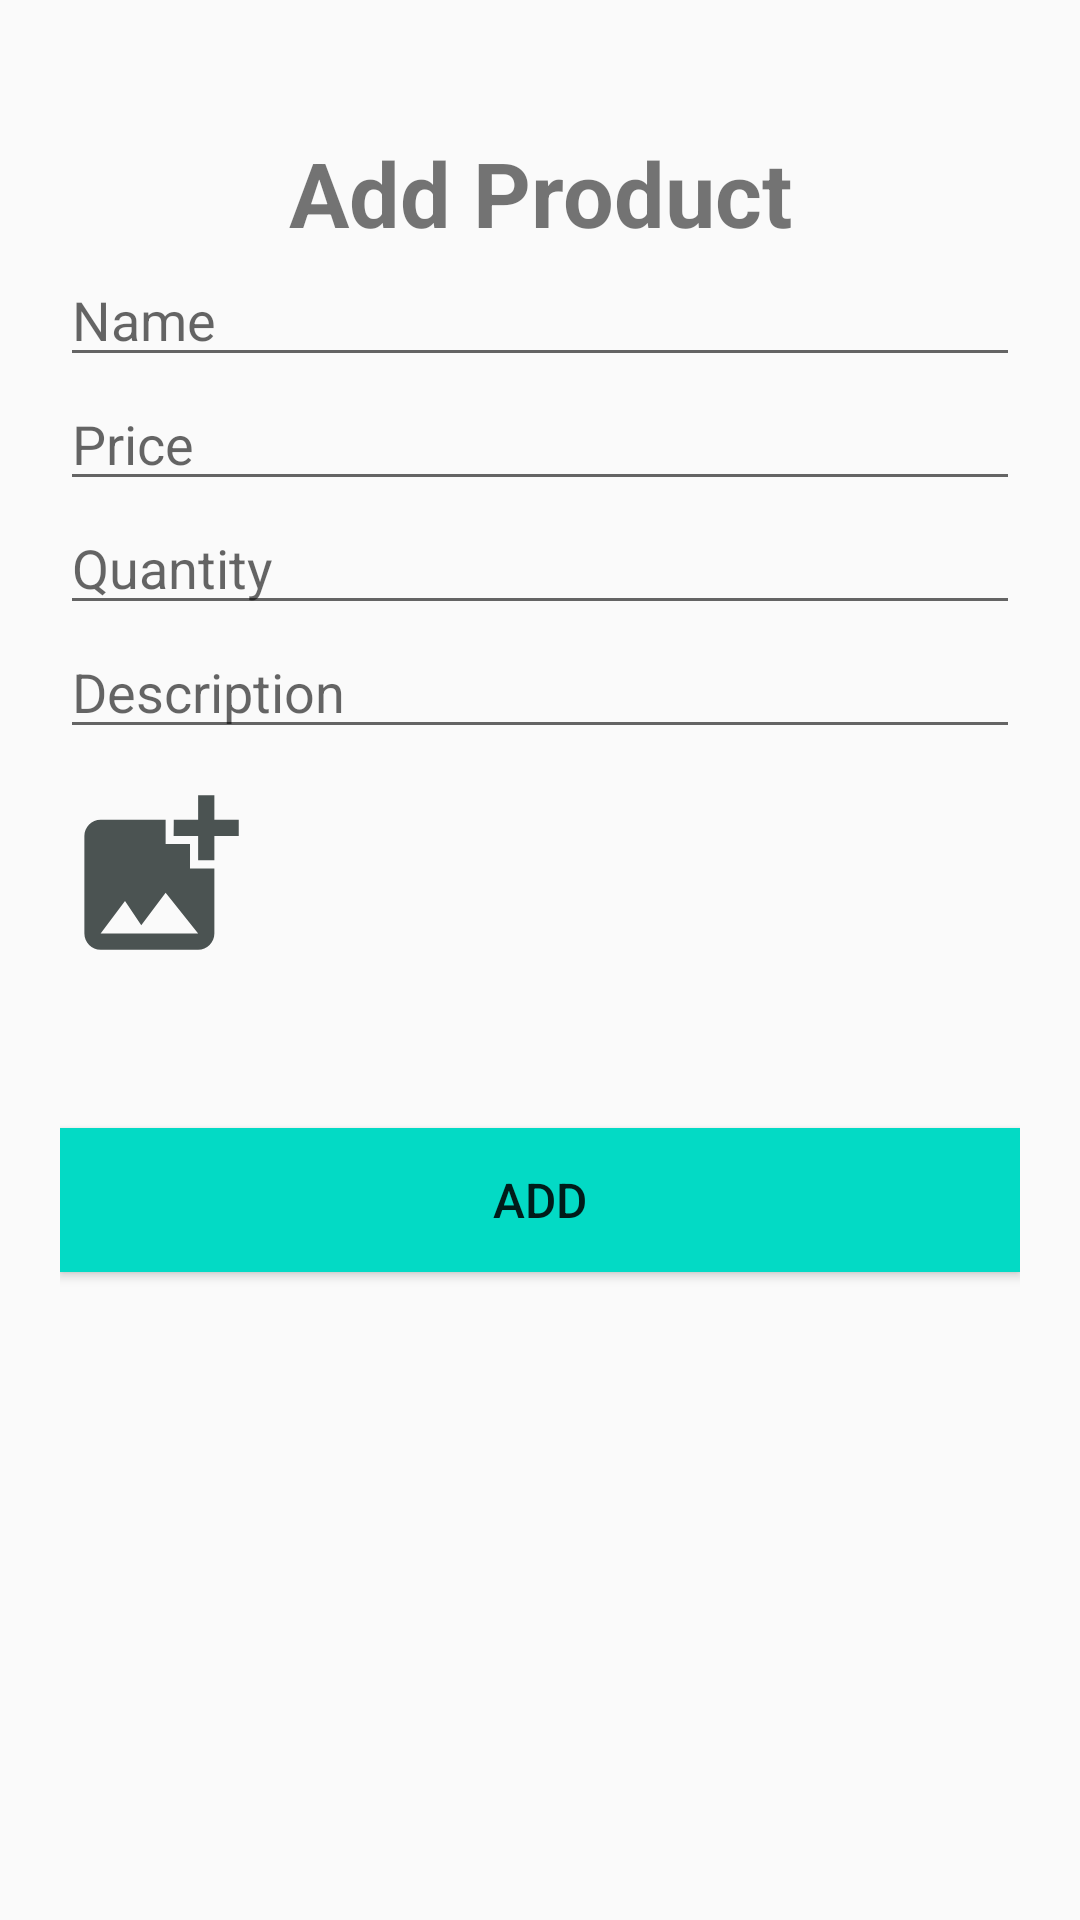

Point at icon controls on the screen. Image size 1080 x 1920, points as point (x, y).
add: point (161, 872)
